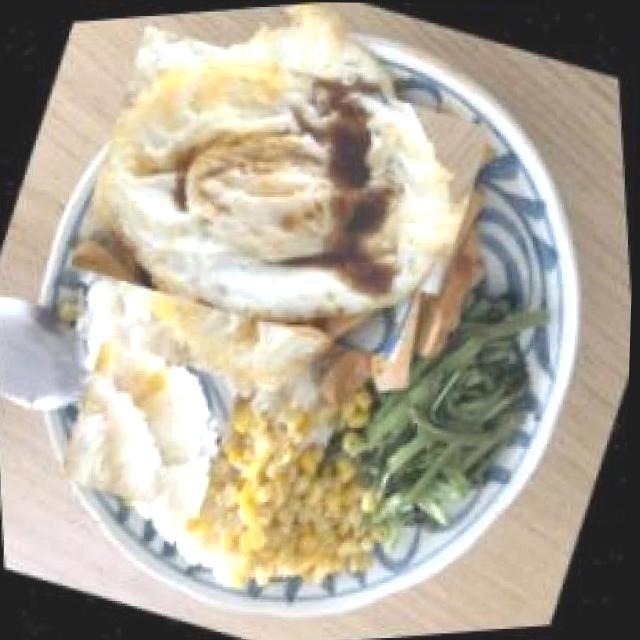fried_eggs: (63, 0, 500, 408)
rice: (48, 328, 257, 533)
water_spinach: (322, 277, 569, 578)
